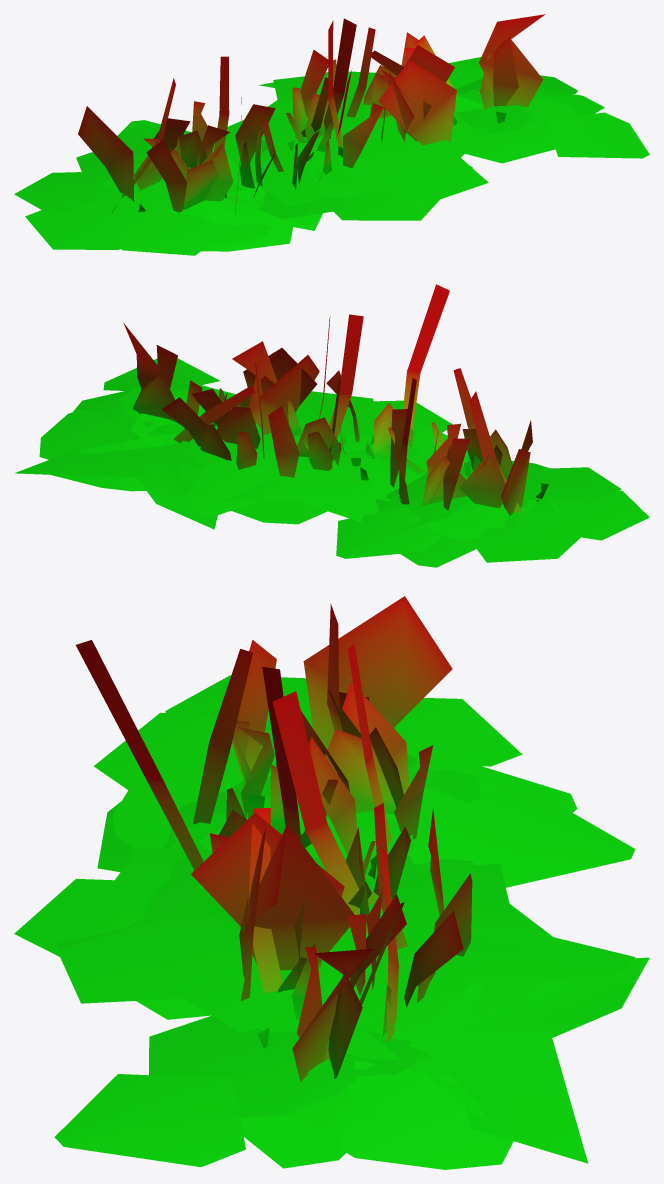
File: Var9_LOD3.fbx
The picture shows the model from 3 angles, top to bottom: view 1: azimuth 30°, elevation 25°; view 2: azimuth 150°, elevation 25°; view 3: azimuth 270°, elevation 25°; orthographic projection. The views are drawn at different scales.
Visible parts, largest first — view 1: _gczr_Var9_LOD3; view 2: _gczr_Var9_LOD3; view 3: _gczr_Var9_LOD3.
Part boxes in pixels (x1=…): _gczr_Var9_LOD3: x1=14, y1=14, x2=649, y2=255; _gczr_Var9_LOD3: x1=15, y1=284, x2=649, y2=567; _gczr_Var9_LOD3: x1=14, y1=596, x2=649, y2=1169.
Bounding box in the file's own units: 106 × 29.59 × 59.24.
